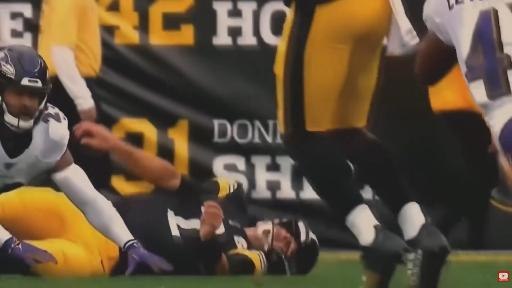Helmet: (0, 45, 51, 130), (266, 218, 319, 274)
Jersey: (113, 183, 262, 274), (424, 0, 511, 154), (424, 0, 511, 105), (0, 105, 69, 190), (428, 65, 480, 113)
Player: (274, 0, 449, 254), (0, 46, 171, 270), (74, 122, 274, 258), (113, 180, 318, 274), (416, 0, 511, 181), (416, 0, 511, 158), (424, 63, 497, 249)
